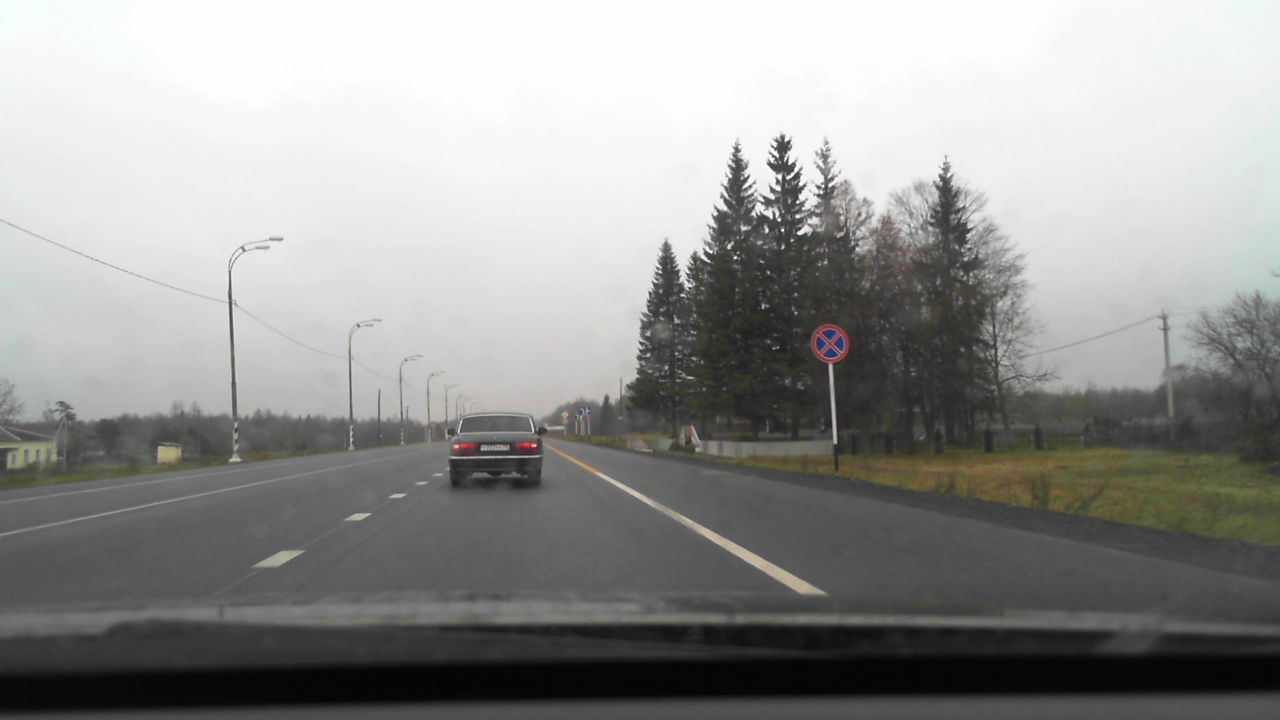No Parking: (810, 323, 849, 363)
